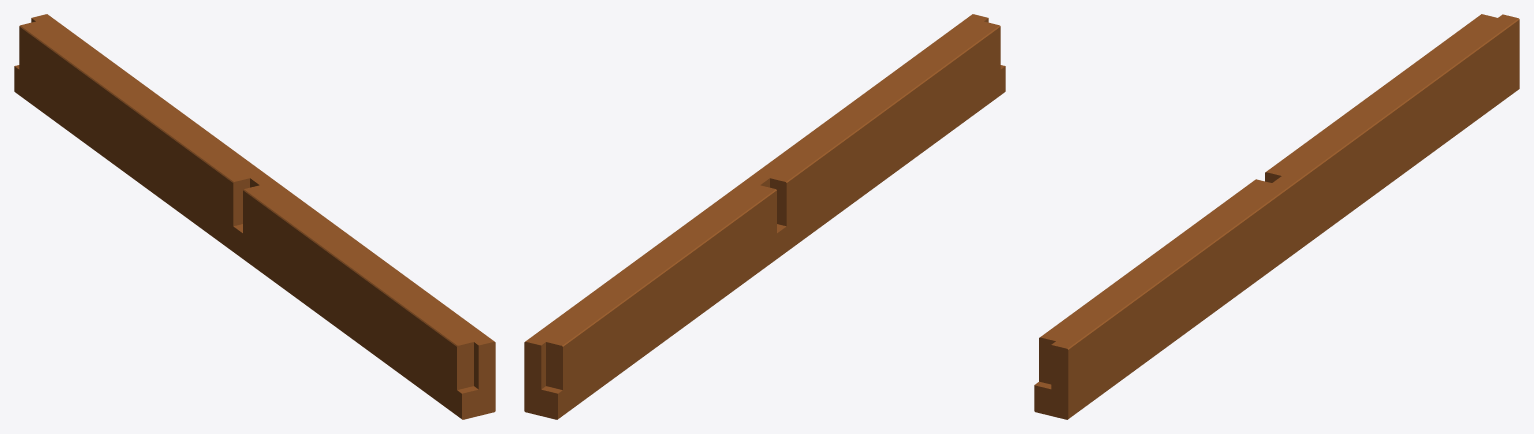
The model's file is Building_Modular_Wood_Brace_Beam_02.fbx.
3 views of the same model, side by side, from view 1: azimuth 30°, elevation 25°; view 2: azimuth 150°, elevation 25°; view 3: azimuth 330°, elevation 25° (orthographic).
Parts seen in each view (by area): view 1: Model; view 2: Model; view 3: Model.
Part boxes in pixels (x1=…): Model: x1=14, y1=14, x2=495, y2=419; Model: x1=524, y1=14, x2=1005, y2=419; Model: x1=1034, y1=14, x2=1519, y2=419.
Bounding box in the file's own units: 45.12 × 90.24 × 1038.
